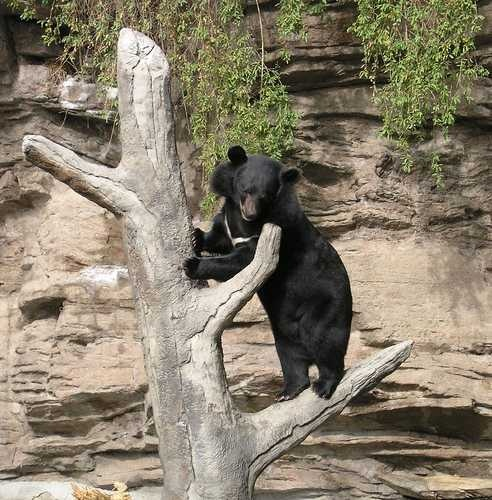bear: (195, 131, 323, 260)
